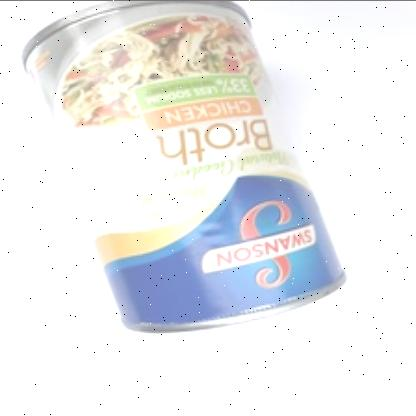Can: (19, 0, 345, 334)
